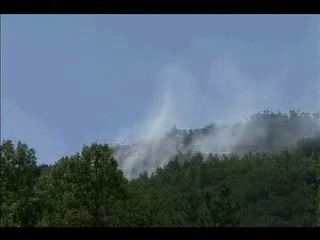smoke: (187, 66, 319, 165), (115, 69, 185, 183)
